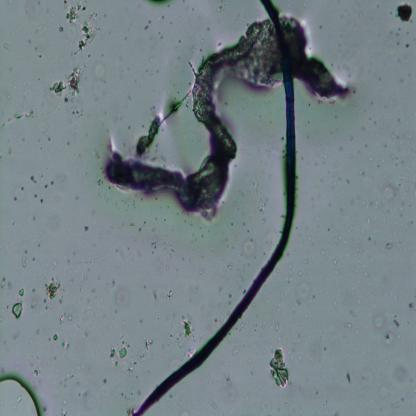Air bubble: (0, 373, 41, 416)
Background material: (66, 4, 101, 52), (269, 345, 291, 389), (90, 58, 109, 102), (0, 110, 36, 133), (52, 68, 81, 96), (389, 358, 414, 386), (239, 234, 262, 262), (296, 279, 318, 308), (126, 349, 146, 373), (343, 79, 361, 105), (357, 195, 387, 210), (394, 4, 414, 25), (222, 382, 242, 402), (44, 278, 61, 300), (381, 182, 399, 198), (373, 311, 387, 330), (10, 300, 23, 320), (148, 0, 175, 9), (392, 313, 405, 331), (13, 188, 26, 204), (392, 397, 407, 410), (144, 337, 157, 352), (238, 317, 250, 333), (258, 194, 268, 212), (184, 319, 192, 340), (58, 311, 72, 323), (77, 390, 91, 402), (377, 384, 388, 399), (329, 251, 341, 264), (72, 110, 86, 121), (276, 291, 283, 313), (68, 251, 78, 266), (82, 54, 92, 69), (223, 370, 233, 385), (20, 254, 29, 270), (92, 176, 104, 188), (396, 201, 404, 219), (393, 130, 404, 143), (314, 153, 327, 164), (35, 21, 46, 34), (119, 346, 128, 361), (111, 111, 122, 123), (162, 289, 174, 300), (61, 340, 72, 352), (208, 397, 218, 410), (216, 0, 226, 13), (348, 220, 358, 233), (352, 246, 360, 261), (344, 370, 354, 382), (363, 215, 378, 223), (150, 286, 157, 302), (405, 220, 415, 231), (345, 322, 355, 333), (407, 299, 416, 311), (192, 232, 198, 250), (0, 274, 7, 289), (383, 330, 393, 340), (122, 393, 133, 402), (30, 365, 41, 374), (26, 4, 32, 20), (165, 332, 173, 344), (34, 46, 42, 58), (150, 239, 158, 251), (62, 97, 74, 105), (28, 299, 38, 308), (387, 240, 396, 250), (251, 323, 261, 332), (4, 42, 13, 52), (182, 344, 190, 355), (285, 274, 293, 285), (169, 241, 174, 258), (223, 238, 230, 250), (95, 146, 101, 160), (61, 377, 68, 389), (161, 242, 170, 251), (231, 347, 240, 356), (107, 279, 115, 289), (226, 294, 234, 304), (44, 123, 50, 136), (60, 408, 69, 416), (53, 330, 59, 342), (394, 116, 402, 125), (121, 338, 130, 346), (174, 336, 180, 348), (8, 403, 17, 411), (30, 176, 38, 185), (405, 130, 412, 140), (335, 234, 342, 244), (362, 271, 372, 278), (18, 288, 25, 298), (190, 43, 197, 53), (69, 50, 79, 57), (184, 100, 191, 110), (356, 147, 362, 158), (6, 144, 12, 155), (16, 394, 24, 402), (358, 170, 366, 178), (394, 32, 402, 40), (185, 220, 193, 228), (61, 398, 69, 406), (272, 322, 280, 330), (58, 296, 65, 305), (13, 332, 20, 341), (62, 0, 69, 9), (90, 208, 96, 218), (367, 232, 373, 242), (124, 220, 134, 226), (322, 396, 328, 406), (194, 284, 200, 294), (7, 282, 14, 290), (132, 235, 139, 243), (330, 182, 338, 189), (305, 236, 313, 243), (199, 36, 206, 44), (30, 286, 38, 293), (297, 331, 302, 342), (302, 258, 311, 264), (82, 273, 88, 282), (386, 7, 392, 16), (403, 186, 409, 195), (111, 346, 115, 359), (262, 216, 267, 226), (215, 41, 222, 48), (331, 409, 338, 416), (92, 286, 98, 294), (82, 331, 88, 339), (7, 94, 13, 102), (396, 56, 402, 64), (38, 172, 44, 180), (332, 268, 338, 276), (26, 38, 32, 46), (246, 356, 252, 364), (248, 370, 254, 378), (64, 139, 70, 147), (44, 407, 50, 415), (175, 52, 181, 60), (220, 272, 226, 280), (356, 298, 362, 306), (404, 43, 412, 49), (298, 387, 303, 396), (228, 262, 233, 271), (142, 67, 149, 73), (32, 214, 38, 221), (149, 33, 155, 40), (290, 305, 296, 312), (84, 225, 90, 232), (101, 12, 108, 18), (167, 20, 174, 26), (33, 328, 40, 334), (61, 285, 68, 291), (84, 132, 90, 139), (66, 374, 74, 379), (329, 224, 334, 232), (278, 335, 283, 343), (127, 92, 132, 100), (298, 298, 302, 308), (58, 25, 63, 33), (164, 262, 169, 270), (96, 272, 101, 280), (344, 178, 350, 184), (306, 100, 312, 106), (364, 142, 370, 148), (32, 192, 38, 198), (102, 379, 108, 385), (150, 227, 156, 233), (38, 198, 44, 204), (404, 30, 410, 36), (205, 24, 211, 30), (52, 259, 57, 266), (326, 200, 331, 207), (77, 154, 82, 161), (375, 2, 380, 9), (35, 137, 42, 142), (148, 55, 152, 63), (214, 316, 218, 324), (8, 64, 12, 72), (240, 190, 244, 198), (50, 178, 54, 186), (139, 316, 143, 324), (312, 216, 318, 221), (314, 389, 319, 395), (246, 191, 252, 196), (326, 171, 332, 176), (123, 34, 128, 40), (20, 185, 26, 190), (338, 146, 343, 152), (386, 209, 391, 215), (344, 240, 349, 246), (154, 68, 160, 73), (173, 44, 178, 50), (191, 6, 196, 12), (267, 172, 272, 178), (31, 255, 36, 261), (160, 15, 166, 20), (328, 129, 333, 135), (37, 0, 42, 6), (390, 154, 395, 160), (149, 70, 155, 75), (232, 199, 236, 206), (341, 207, 345, 214), (136, 250, 140, 257), (187, 80, 191, 87), (367, 156, 372, 161), (20, 137, 25, 142), (280, 135, 285, 140), (361, 127, 366, 132), (367, 116, 372, 121), (298, 270, 302, 276), (44, 184, 48, 190), (138, 227, 142, 233), (382, 144, 388, 148), (114, 361, 118, 367), (304, 160, 310, 164), (188, 297, 192, 303), (137, 390, 141, 396), (149, 18, 153, 24), (12, 220, 16, 226), (388, 30, 394, 34), (306, 134, 310, 140), (351, 135, 355, 141), (74, 194, 78, 200), (370, 100, 373, 108), (241, 220, 245, 226), (288, 263, 292, 269), (200, 270, 204, 276), (401, 158, 404, 166), (378, 76, 382, 82), (69, 117, 72, 124), (334, 113, 337, 120), (210, 247, 214, 252), (398, 181, 402, 186), (157, 30, 161, 35), (376, 164, 381, 168), (24, 249, 28, 254), (85, 170, 89, 175), (37, 244, 41, 249), (76, 379, 80, 384), (154, 216, 158, 221), (258, 103, 263, 107), (176, 267, 180, 272), (396, 41, 400, 46), (108, 184, 111, 190), (321, 249, 324, 255), (312, 204, 315, 210), (48, 336, 51, 342), (101, 52, 104, 58), (128, 125, 131, 131), (201, 252, 204, 258), (159, 36, 163, 40), (142, 222, 146, 226), (396, 162, 400, 166), (244, 146, 248, 150), (373, 120, 377, 124), (144, 26, 148, 30), (230, 221, 234, 225), (186, 6, 190, 10), (336, 127, 339, 132), (87, 268, 90, 273), (47, 138, 52, 141), (178, 38, 181, 43), (142, 122, 145, 127), (199, 48, 202, 53), (307, 119, 310, 124), (270, 119, 272, 125), (218, 288, 221, 292), (246, 230, 250, 233), (395, 156, 398, 160), (208, 240, 211, 244), (232, 246, 235, 250), (39, 146, 42, 150), (182, 256, 184, 262), (236, 207, 240, 210), (163, 218, 166, 222), (398, 27, 401, 31), (254, 112, 258, 115), (0, 401, 3, 405), (0, 154, 2, 160), (38, 77, 40, 82), (222, 256, 224, 261), (324, 347, 326, 352), (199, 227, 202, 230), (183, 0, 186, 3), (114, 310, 116, 314), (202, 234, 204, 238), (300, 356, 302, 360), (178, 90, 180, 94), (128, 247, 130, 250), (402, 177, 404, 180), (116, 249, 118, 252)
Cellulose filter fibre: (106, 11, 344, 215)
Cotton: (132, 1, 296, 415)
